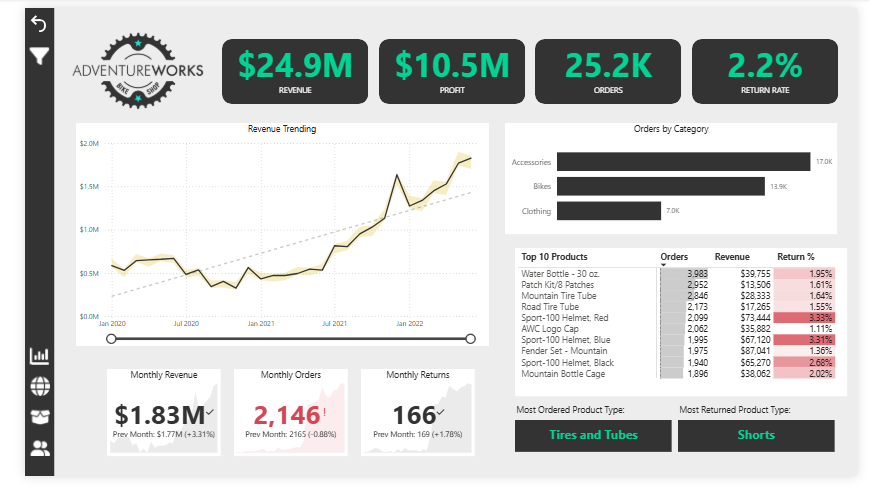

The dashboard page shown, as its layout file describes it:
{"tool":"powerbi","page":{"name":"Exec Dashboard","canvas":[1280,720],"ordinal":0},"visuals":[{"type":"card","fields":{"Values":["Measure Table.Total Revenue"]},"box":[288.1,17.8,256.2,150],"z":0,"group":"g2"},{"type":"image","title":"AW Logo","box":[45.6,26.6,256.2,141.2],"z":0},{"type":"shape","box":[303.1,47.8,225,100],"z":0,"group":"g1"},{"type":"actionButton","box":[2.5,516.7,45.6,37.8],"z":0,"group":"g3"},{"type":"card","fields":{"Values":["Measure Table.Total Profit"]},"box":[528.9,17.8,256.2,150],"z":1000,"group":"g2"},{"type":"shape","box":[543.9,47.8,225,100],"z":1000,"group":"g1"},{"type":"actionButton","box":[3.3,563.4,45.6,37.8],"z":1000,"group":"g3"},{"type":"card","fields":{"Values":["Measure Table.Total Orders"]},"box":[769.8,17.8,256.2,150],"z":2000,"group":"g2"},{"type":"group","id":"g1","title":"KPI Backgrounds","box":[303.1,47.8,947.5,100],"z":2000},{"type":"shape","box":[784.8,47.8,225,100],"z":2000,"group":"g1"},{"type":"actionButton","box":[3.3,611.1,45.6,37.8],"z":2000,"group":"g3"},{"type":"shape","title":"Left Nav Background","box":[0,0,45,720],"z":3000},{"type":"card","fields":{"Values":["Measure Table.Return Rate"]},"box":[1010.6,17.8,256.2,150],"z":3000,"group":"g2"},{"type":"shape","box":[1025.6,47.8,225,100],"z":3000,"group":"g1"},{"type":"actionButton","box":[3.3,657.8,45.6,37.8],"z":3000,"group":"g3"},{"type":"group","id":"g2","title":"KPI Values","box":[288.1,17.8,978.8,150],"z":4000},{"type":"lineChart","title":"Revenue Trending","fields":{"Y":["Measure Table.Total Revenue"],"Category":["Calendar Lookup.Start of Month"]},"box":[78.9,177.7,633.8,342.5],"z":5000},{"type":"kpi","title":"Monthly Revenue","fields":{"Indicator":["Measure Table.Total Revenue"],"TrendLine":["Calendar Lookup.Start of Month"],"Goal":["Measure Table.Previous Month Revenue"]},"box":[126.2,555,175,133.8],"z":6000},{"type":"kpi","title":"Monthly Orders","fields":{"TrendLine":["Calendar Lookup.Start of Month"],"Indicator":["Measure Table.Total Orders"],"Goal":["Measure Table.Previous Month Orders"]},"box":[321.2,555,175,133.8],"z":7000},{"type":"kpi","title":"Monthly Returns","fields":{"TrendLine":["Calendar Lookup.Start of Month"],"Indicator":["Measure Table.Total Returns"],"Goal":["Measure Table.Previous Month Returns"]},"box":[516.2,555,175,133.8],"z":8000},{"type":"clusteredBarChart","title":"Orders by Category","fields":{"Category":["Product Categories Lookup.CategoryName"],"Y":["Measure Table.Total Orders"]},"box":[738.9,177.7,511.2,171.2],"z":9000},{"type":"pivotTable","fields":{"Rows":["Product Lookup.ProductName"],"Values":["Measure Table.Total Orders","Measure Table.Total Revenue","Measure Table.Return Rate"]},"box":[753.7,369.2,511.1,228.4],"z":10000},{"type":"card","fields":{"Values":["Min(Product Subcategories Lookup.SubcategoryName)"]},"box":[753.7,634.2,241.4,48.5],"z":11000},{"type":"textbox","box":[751.3,604.6,198.8,35.5],"z":12000},{"type":"card","fields":{"Values":["Min(Product Subcategories Lookup.SubcategoryName)"]},"box":[1004.1,634.2,241.4,48.5],"z":13000},{"type":"textbox","box":[1002.2,605.2,198.8,35.5],"z":14000},{"type":"actionButton","box":[3.3,5.6,35.6,35.6],"z":15000},{"type":"group","id":"g3","title":"Navigation Buttons","box":[2.5,516.7,46.4,178.9],"z":16000},{"type":"actionButton","box":[3.4,53.1,38.4,39.6],"z":17000}]}

Visuals, with their boxes on the page's 1280x720 design canvas (x1, y1, x2, y2). These are canvas units, not pixel positions in the 869x487 screenshot, which may show the page scaled, cropped or inside an application window:
card - Measure Table.Total Revenue: crop(288, 18, 544, 168)
"AW Logo" image: crop(46, 27, 302, 168)
shape: crop(303, 48, 528, 148)
actionButton: crop(2, 517, 48, 554)
card - Measure Table.Total Profit: crop(529, 18, 785, 168)
shape: crop(544, 48, 769, 148)
actionButton: crop(3, 563, 49, 601)
card - Measure Table.Total Orders: crop(770, 18, 1026, 168)
"KPI Backgrounds" group: crop(303, 48, 1251, 148)
shape: crop(785, 48, 1010, 148)
actionButton: crop(3, 611, 49, 649)
"Left Nav Background" shape: crop(0, 0, 45, 720)
card - Measure Table.Return Rate: crop(1011, 18, 1267, 168)
shape: crop(1026, 48, 1251, 148)
actionButton: crop(3, 658, 49, 696)
"KPI Values" group: crop(288, 18, 1267, 168)
"Revenue Trending" lineChart: crop(79, 178, 713, 520)
"Monthly Revenue" kpi: crop(126, 555, 301, 689)
"Monthly Orders" kpi: crop(321, 555, 496, 689)
"Monthly Returns" kpi: crop(516, 555, 691, 689)
"Orders by Category" clusteredBarChart: crop(739, 178, 1250, 349)
pivotTable - Product Lookup.ProductName x Measure Table.Total Orders: crop(754, 369, 1265, 598)
card - Min(Product Subcategories Lookup.SubcategoryName): crop(754, 634, 995, 683)
textbox: crop(751, 605, 950, 640)
card - Min(Product Subcategories Lookup.SubcategoryName): crop(1004, 634, 1246, 683)
textbox: crop(1002, 605, 1201, 641)
actionButton: crop(3, 6, 39, 41)
"Navigation Buttons" group: crop(2, 517, 49, 696)
actionButton: crop(3, 53, 42, 93)
